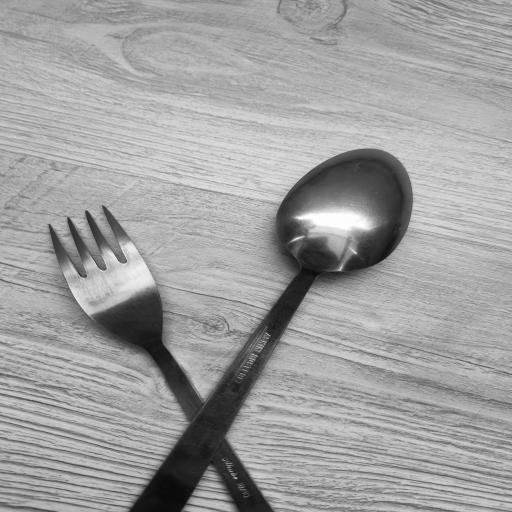fork: (40, 202, 287, 512)
spoon: (136, 146, 422, 510)
